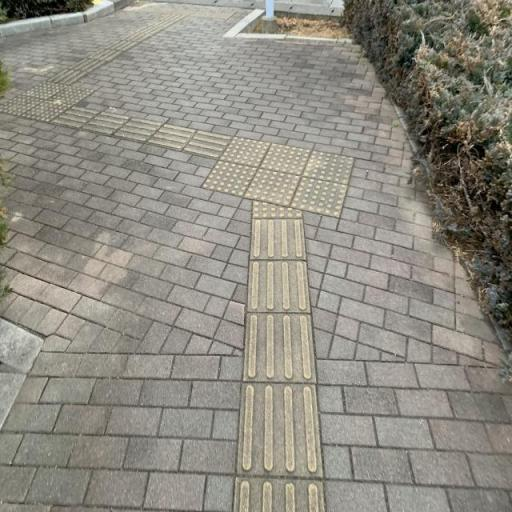dot: (290, 177, 348, 218), (244, 168, 301, 208), (201, 160, 259, 196), (301, 150, 354, 184), (259, 142, 312, 175), (218, 136, 272, 168)
line: (236, 384, 323, 480), (242, 312, 316, 383), (247, 259, 310, 312), (251, 218, 307, 260), (181, 129, 233, 160), (145, 123, 199, 151), (113, 116, 165, 143), (80, 113, 132, 136), (48, 106, 100, 129)
